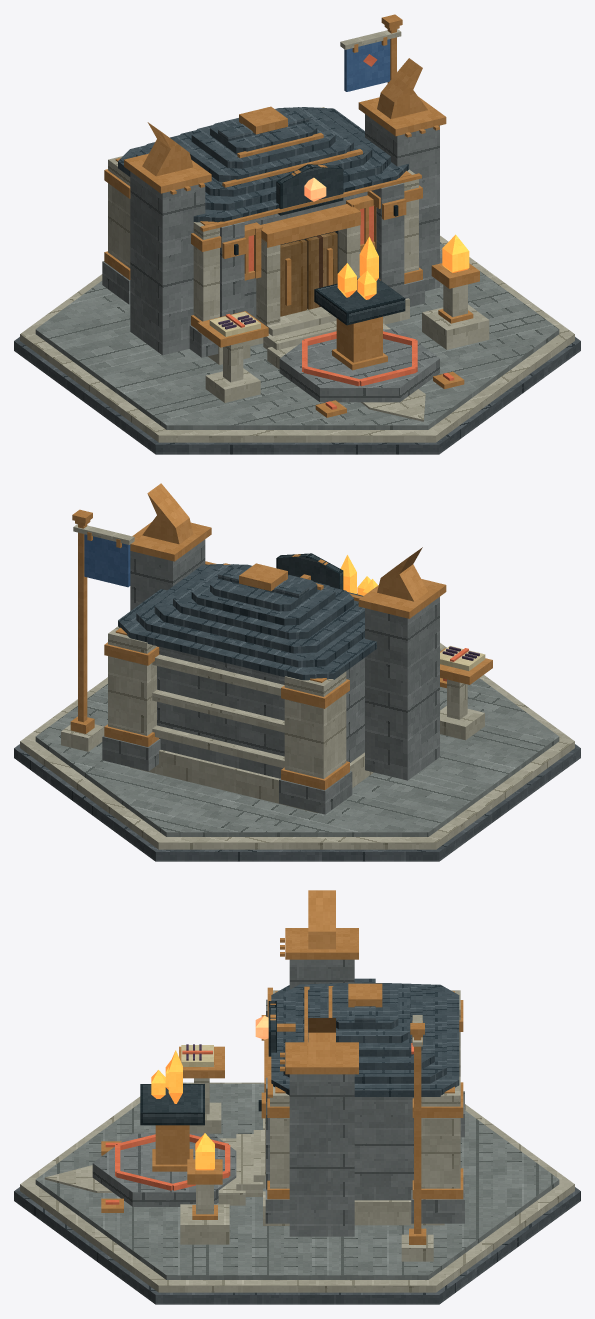
File: dwarf_infernal_sanctum_hex_v1.glb
The picture shows the model from 3 angles, top to bottom: view 1: azimuth 30°, elevation 25°; view 2: azimuth 150°, elevation 25°; view 3: azimuth 270°, elevation 25°; orthographic projection.
Parts seen in each view (by area): view 1: Dwarf_Infernal_Sanctum_Hex_V1_Foundation, Dwarf_Infernal_Sanctum_Hex_V1_Hall, Dwarf_Infernal_Sanctum_Hex_V1_Roofs, Dwarf_Infernal_Sanctum_Hex_V1_Focus, Dwarf_Infernal_Sanctum_Hex_V1_Courtyard, Dwarf_Infernal_Sanctum_Hex_V1_Details, Dwarf_Infernal_Sanctum_Hex_V1_Training, Dwarf_Infernal_Sanctum_Hex_V1_Faction; view 2: Dwarf_Infernal_Sanctum_Hex_V1_Foundation, Dwarf_Infernal_Sanctum_Hex_V1_Hall, Dwarf_Infernal_Sanctum_Hex_V1_Roofs, Dwarf_Infernal_Sanctum_Hex_V1_Faction, Dwarf_Infernal_Sanctum_Hex_V1_Focus, Dwarf_Infernal_Sanctum_Hex_V1_Details, Dwarf_Infernal_Sanctum_Hex_V1_Training; view 3: Dwarf_Infernal_Sanctum_Hex_V1_Foundation, Dwarf_Infernal_Sanctum_Hex_V1_Hall, Dwarf_Infernal_Sanctum_Hex_V1_Roofs, Dwarf_Infernal_Sanctum_Hex_V1_Focus, Dwarf_Infernal_Sanctum_Hex_V1_Courtyard, Dwarf_Infernal_Sanctum_Hex_V1_Training, Dwarf_Infernal_Sanctum_Hex_V1_Faction, Dwarf_Infernal_Sanctum_Hex_V1_Details.
Boxes of the visible parts, x1,y1,x2,y2 form: Dwarf_Infernal_Sanctum_Hex_V1_Foundation: (14,235,580,454); Dwarf_Infernal_Sanctum_Hex_V1_Hall: (102,107,439,357); Dwarf_Infernal_Sanctum_Hex_V1_Roofs: (118,96,446,231); Dwarf_Infernal_Sanctum_Hex_V1_Focus: (142,58,489,370); Dwarf_Infernal_Sanctum_Hex_V1_Courtyard: (263,307,439,421); Dwarf_Infernal_Sanctum_Hex_V1_Details: (115,125,464,417); Dwarf_Infernal_Sanctum_Hex_V1_Training: (197,311,417,402); Dwarf_Infernal_Sanctum_Hex_V1_Faction: (340,14,402,91); Dwarf_Infernal_Sanctum_Hex_V1_Foundation: (14,643,580,861); Dwarf_Infernal_Sanctum_Hex_V1_Hall: (102,539,439,814); Dwarf_Infernal_Sanctum_Hex_V1_Roofs: (118,522,446,680); Dwarf_Infernal_Sanctum_Hex_V1_Faction: (61,509,134,751); Dwarf_Infernal_Sanctum_Hex_V1_Focus: (142,483,427,601); Dwarf_Infernal_Sanctum_Hex_V1_Details: (115,627,446,768); Dwarf_Infernal_Sanctum_Hex_V1_Training: (440,646,492,740); Dwarf_Infernal_Sanctum_Hex_V1_Foundation: (14,1082,580,1304); Dwarf_Infernal_Sanctum_Hex_V1_Hall: (264,959,464,1236); Dwarf_Infernal_Sanctum_Hex_V1_Roofs: (267,928,459,1097); Dwarf_Infernal_Sanctum_Hex_V1_Focus: (140,890,335,1244); Dwarf_Infernal_Sanctum_Hex_V1_Courtyard: (44,1130,265,1206); Dwarf_Infernal_Sanctum_Hex_V1_Training: (115,1044,230,1190); Dwarf_Infernal_Sanctum_Hex_V1_Faction: (401,1015,433,1261); Dwarf_Infernal_Sanctum_Hex_V1_Details: (101,938,454,1225).
Size of the model in its own units: 1.59 by 0.8964 by 1.84.
1 material, 1 textured.
